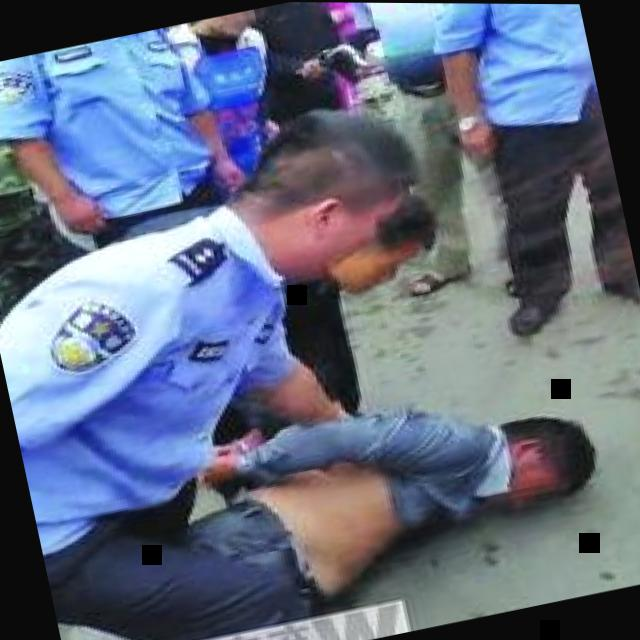Fall-Detected: (112, 335, 627, 640)
